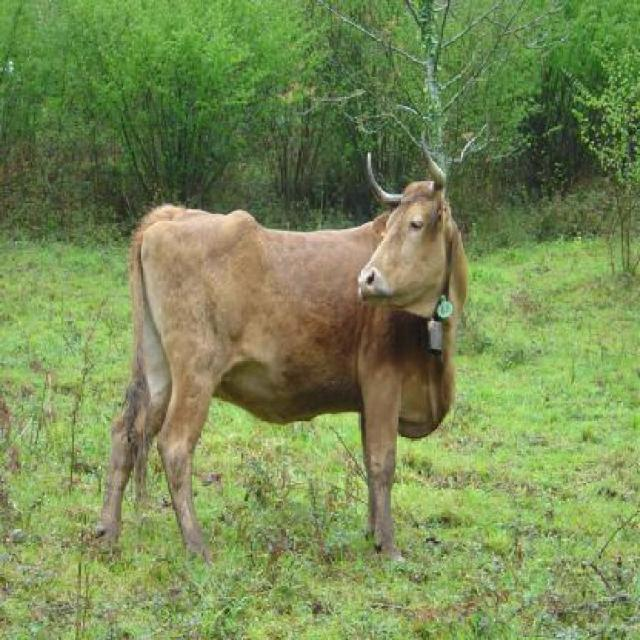Cow: (102, 142, 470, 562)
